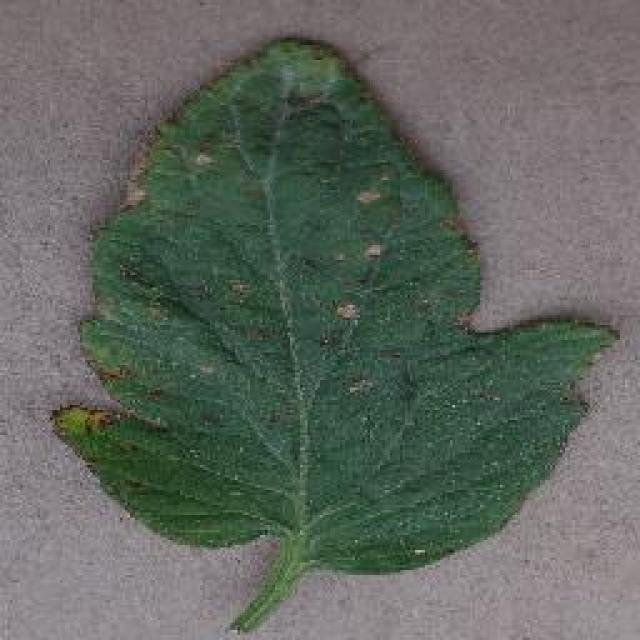Tomato bacterial spot leaf: (43, 27, 627, 586)
